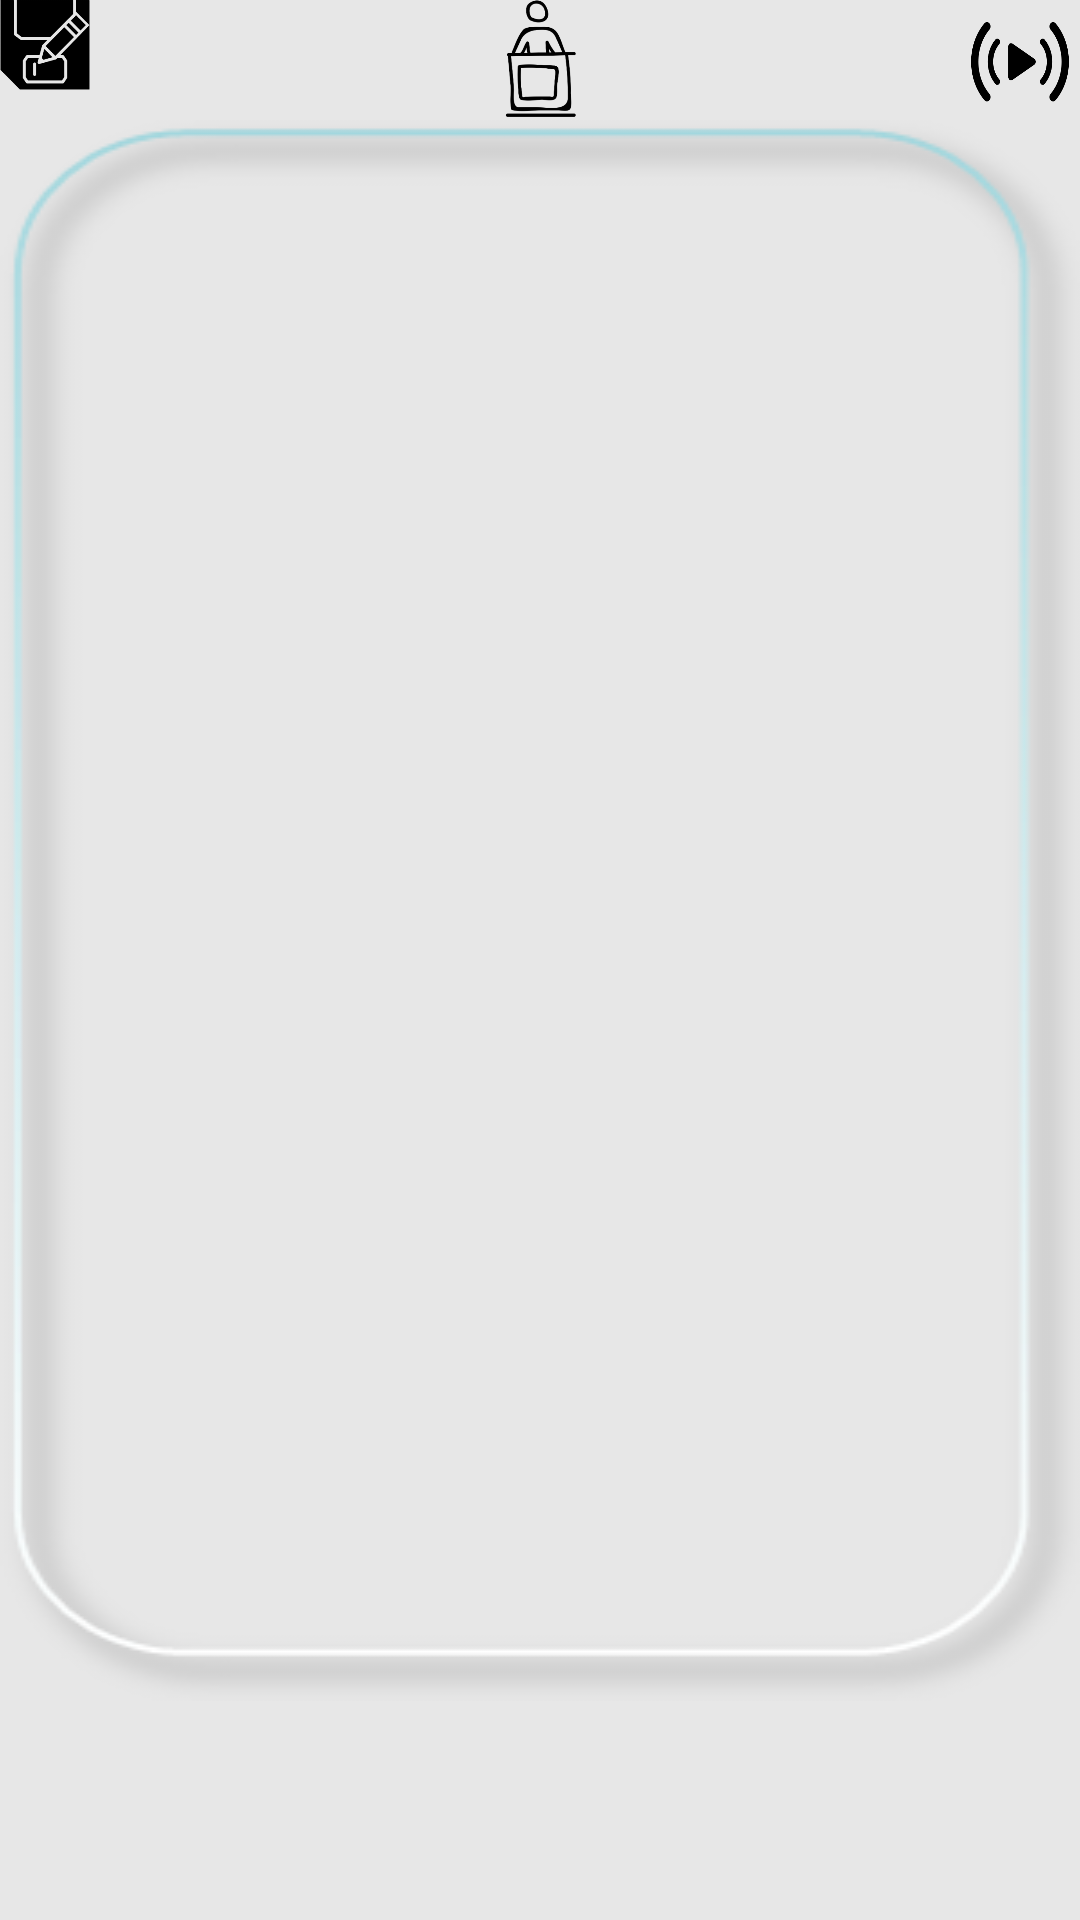

Icons on this 1080w x 1920h Android screen, each with its box as bbox(x1, y1, x2, y2):
start stt: bbox(971, 22, 1069, 102)
